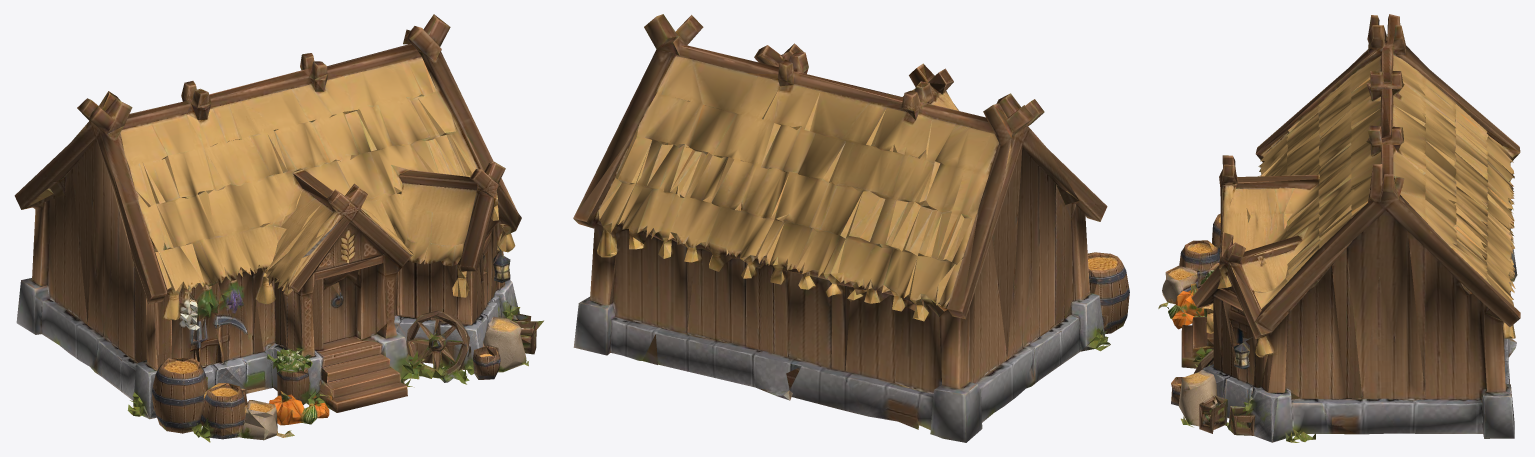
File: farm-homestead.glb
3 views of the same model, side by side, from view 1: azimuth 30°, elevation 25°; view 2: azimuth 150°, elevation 25°; view 3: azimuth 270°, elevation 25° (orthographic). The views are drawn at different scales.
Visible parts, largest first — view 1: output_unwrapped; view 2: output_unwrapped; view 3: output_unwrapped.
Boxes of the visible parts, x1,y1,x2,y2 form: output_unwrapped: [14, 14, 543, 442]; output_unwrapped: [573, 14, 1129, 442]; output_unwrapped: [1158, 14, 1520, 442].
Bounding box in the file's own units: 6.1 × 4 × 5.08.
Materials: 1 (1 with a texture image).
